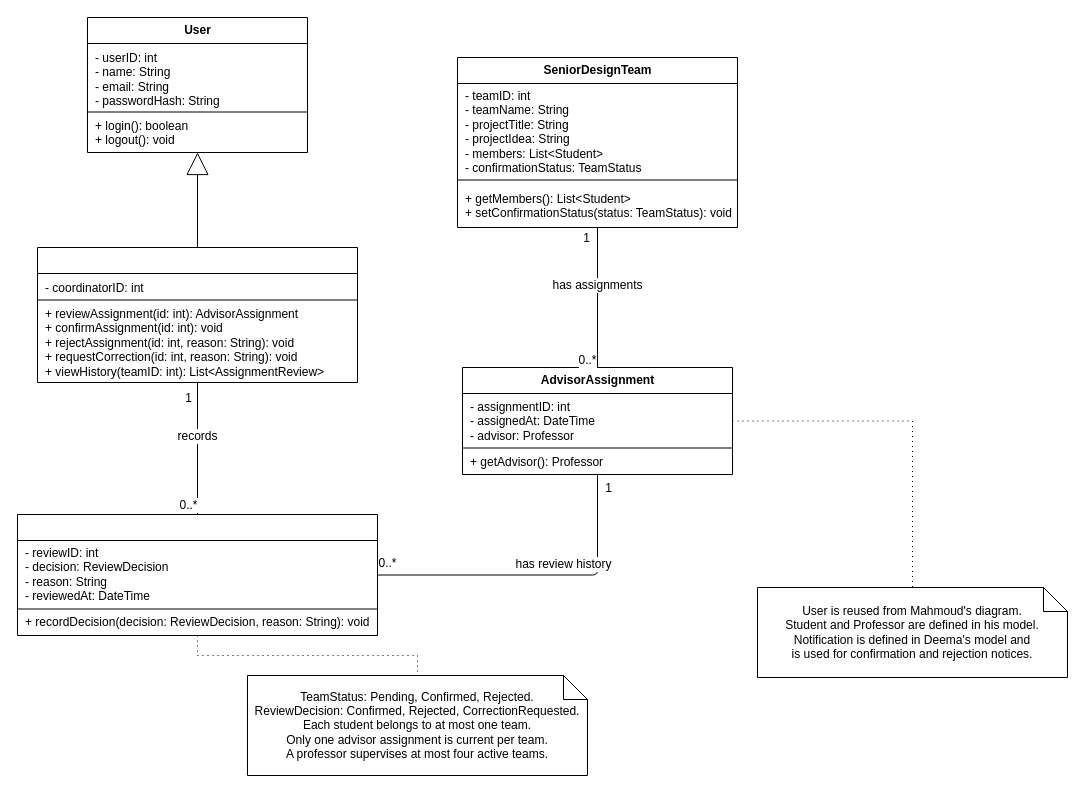
This 1085x793 diagram has some shape labels left out. Each missing label, with the box of its shape:
AssignmentReview: (16, 514, 378, 636)
SeniorDesignCoordinator: (36, 246, 358, 382)
